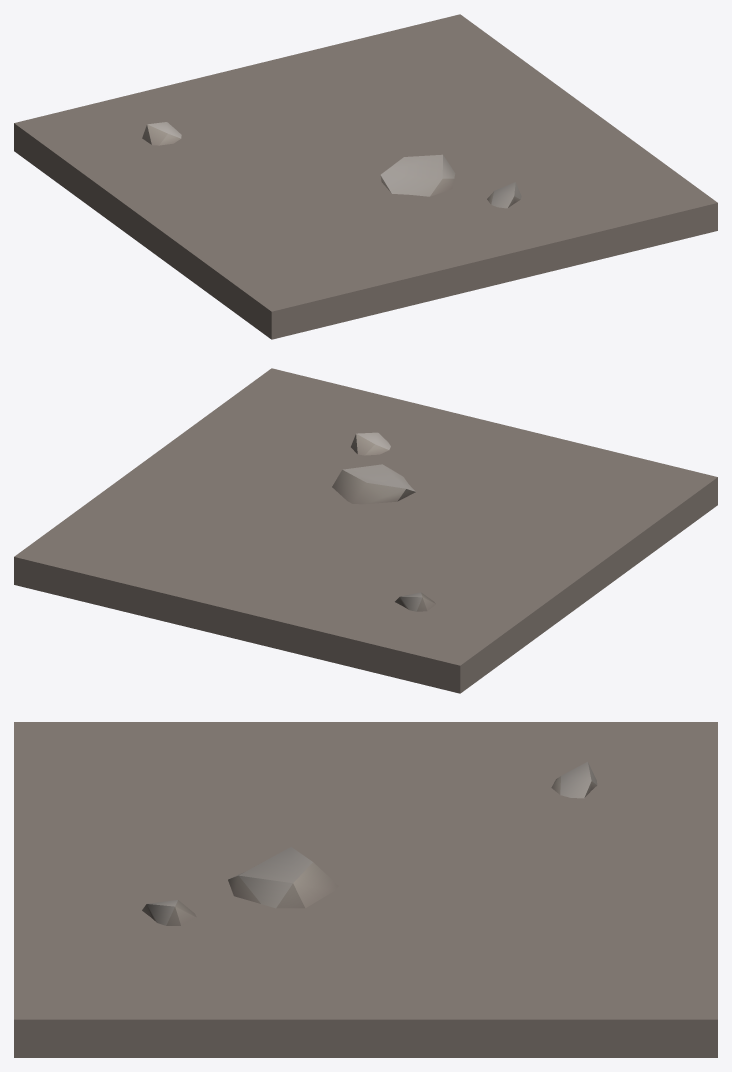
The model's file is floor_dirt.fbx.
3 renders of one model, top to bottom at view 1: azimuth 30°, elevation 25°; view 2: azimuth 150°, elevation 25°; view 3: azimuth 270°, elevation 25°, orthographic. The views are drawn at different scales.
Visible parts, largest first — view 1: floor_dirt_small_A; view 2: floor_dirt_small_A; view 3: floor_dirt_small_A.
Boxes of the visible parts, left/top/right/bottom form: floor_dirt_small_A: left=14, top=14, right=717, bottom=339; floor_dirt_small_A: left=14, top=368, right=717, bottom=693; floor_dirt_small_A: left=14, top=722, right=717, bottom=1057.
Bounding box in the file's own units: 200 × 18.64 × 200.
Materials: 1 (1 with a texture image).
